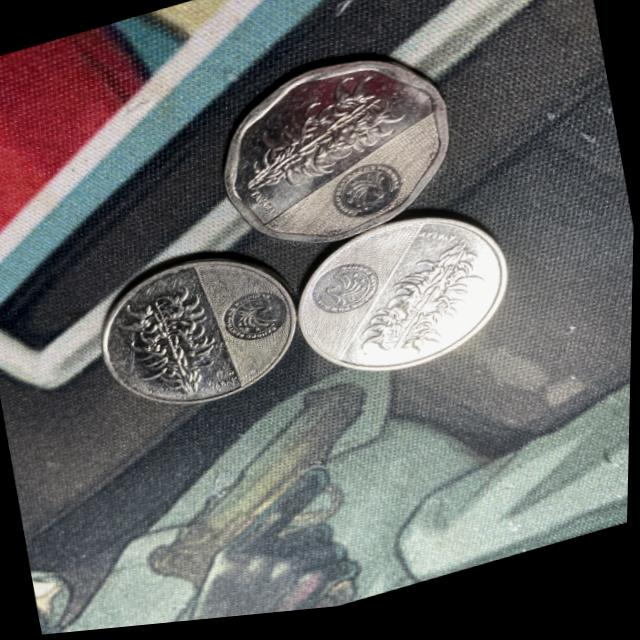5_New_Back: (229, 77, 404, 202), (361, 246, 499, 373), (112, 282, 229, 417)
